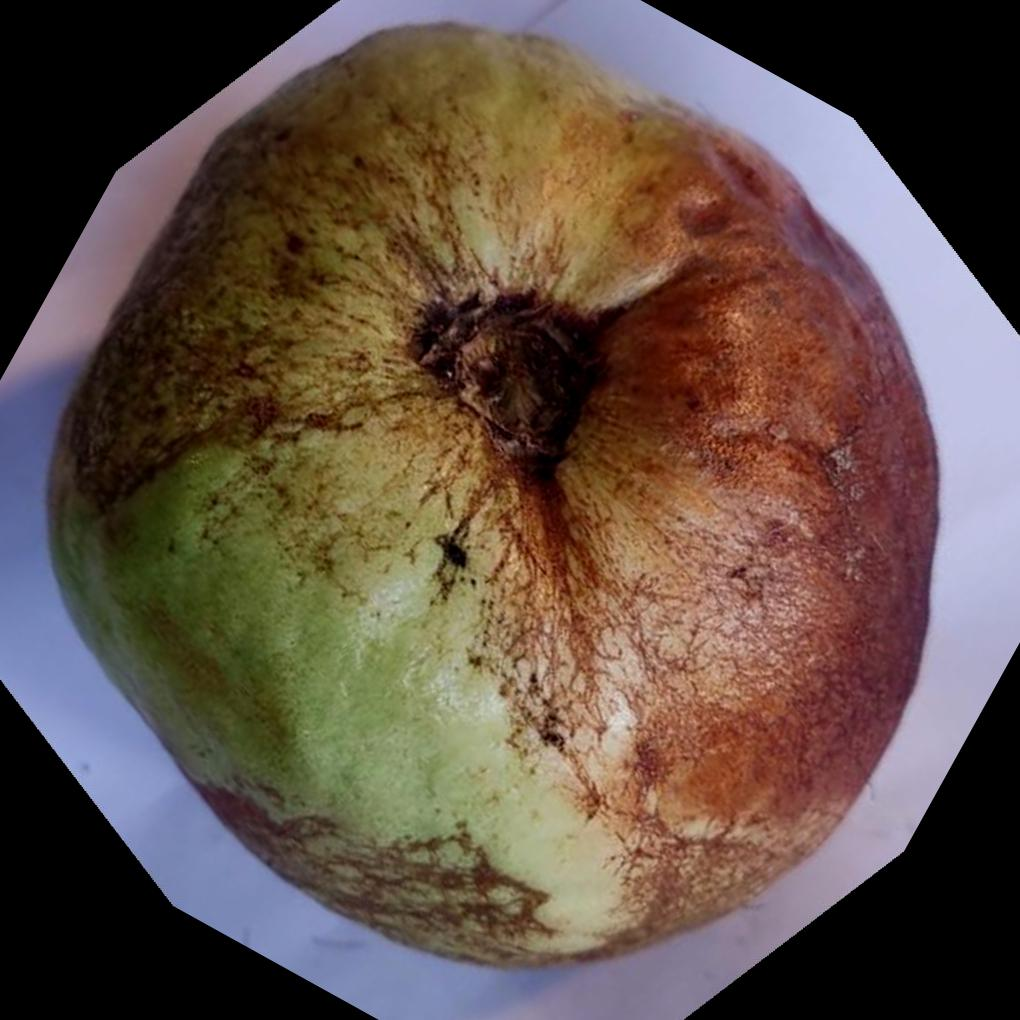FreshOrange: (46, 16, 944, 968)
